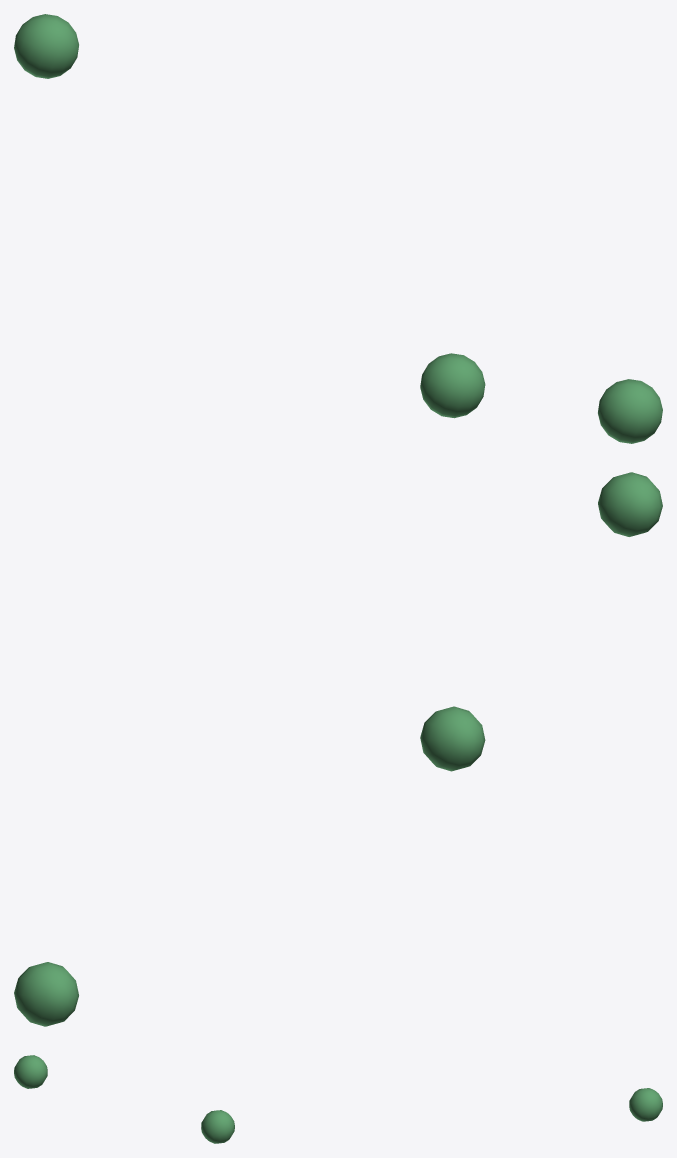
The picture shows the model from 3 angles, top to bottom: view 1: azimuth 30°, elevation 25°; view 2: azimuth 150°, elevation 25°; view 3: azimuth 270°, elevation 25°; orthographic projection. The views are drawn at different scales.
Parts seen in each view (by area): view 1: 肠系膜上中央淋巴结; view 2: 肠系膜上中央淋巴结; view 3: 肠系膜上中央淋巴结.
Boxes of the visible parts, left/top/right/bottom form: 肠系膜上中央淋巴结: left=14, top=14, right=662, bottom=443; 肠系膜上中央淋巴结: left=14, top=472, right=662, bottom=1026; 肠系膜上中央淋巴结: left=14, top=1055, right=662, bottom=1143.
Size of the model in its own units: 0.00378 by 0.0105 by 0.0722.
